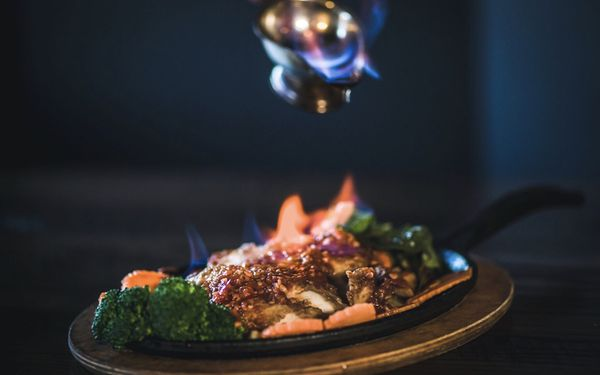curry: (91, 273, 247, 350)
